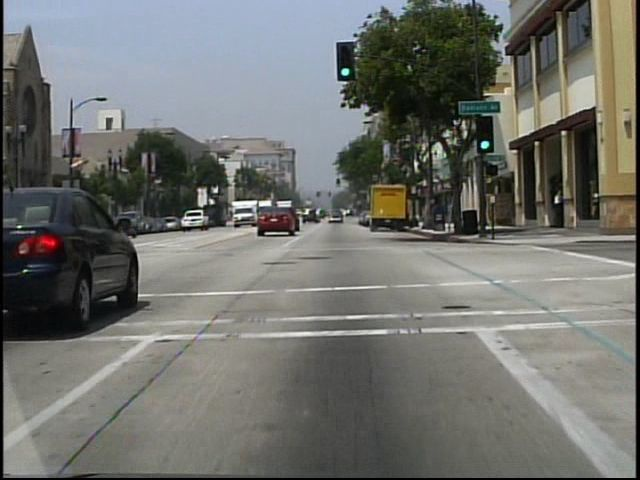person: (552, 191, 564, 229)
